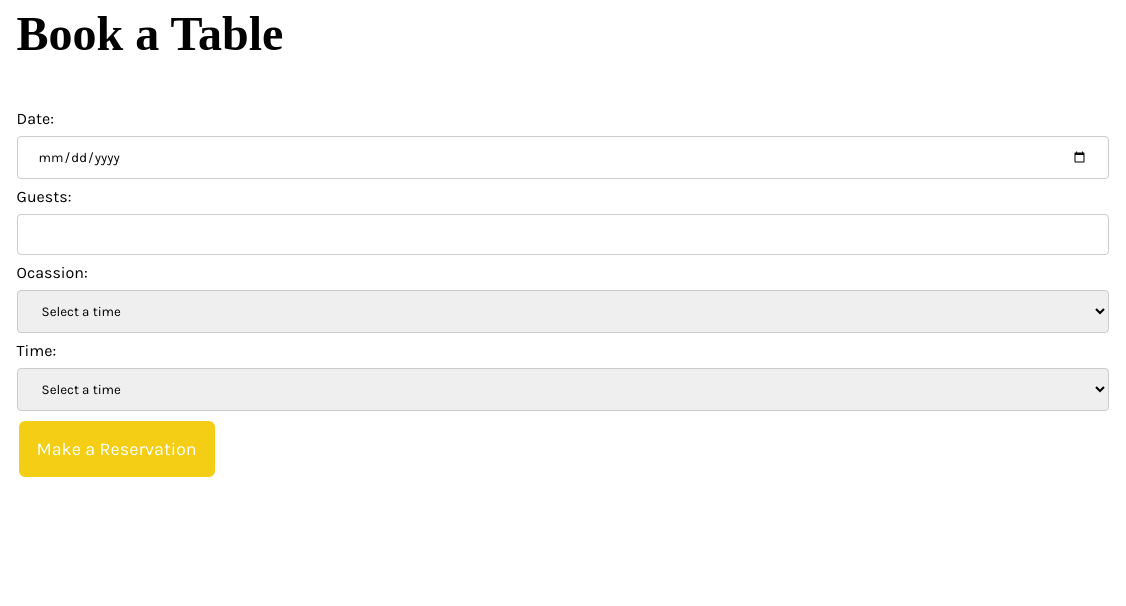
Test: BookingForm › displays error message when occasion field is empty
Select "Select a time" in the dropdown with test id "occasion-input" at (563, 312), box [17, 290, 1109, 333]
Submit the form with test id "form"
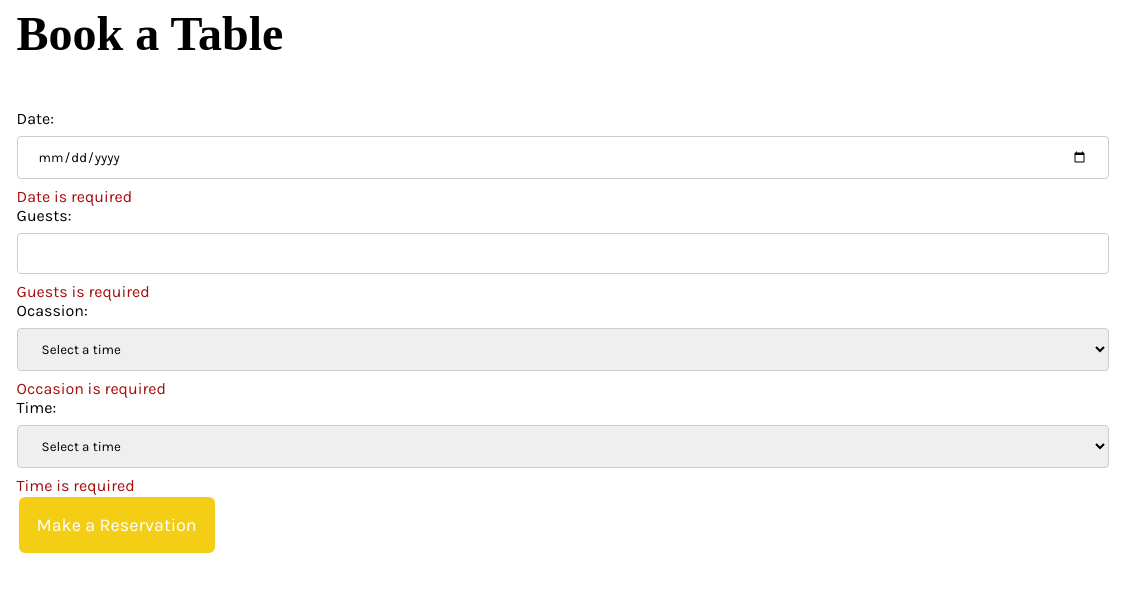
Expected: the text "Occasion is required" is shown, [17, 379, 166, 398]
